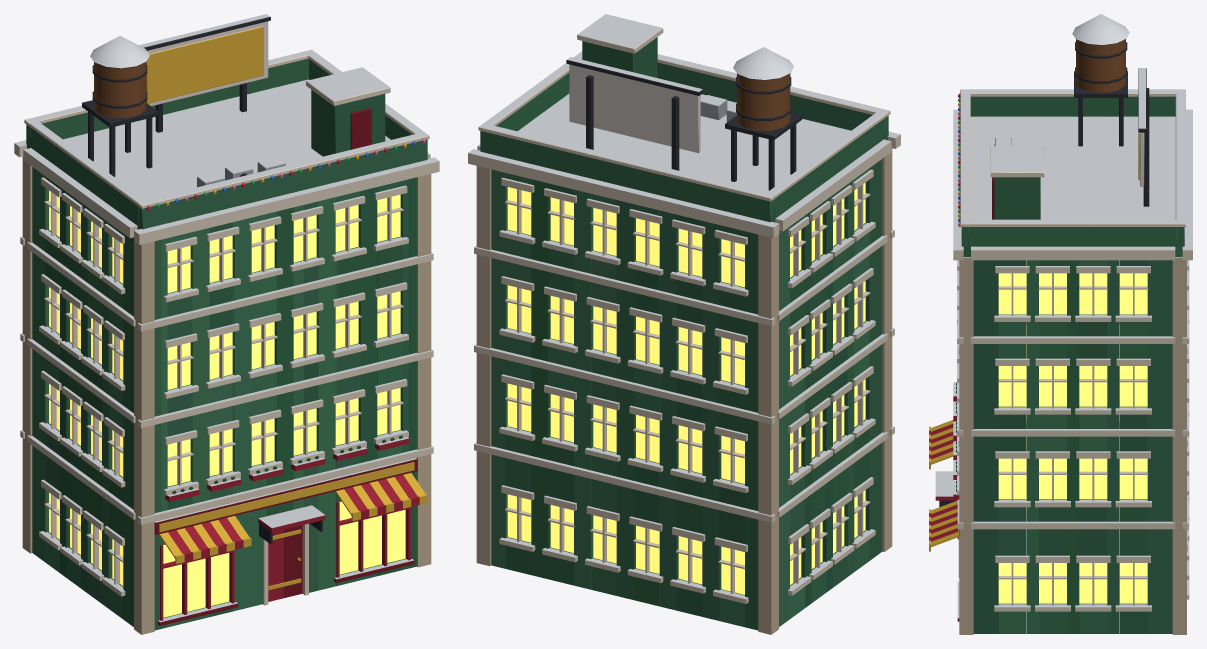
Rendered from Apartment_Green.glb.
3 renders of one model, left to right at view 1: azimuth 30°, elevation 25°; view 2: azimuth 150°, elevation 25°; view 3: azimuth 270°, elevation 25°, orthographic. The views are drawn at different scales.
Visible parts, largest first — view 1: Apartment_Green_Walls, Apartment_Green_Trim, Apartment_Green_Roof, Apartment_Green_Glow, Apartment_Green_Shopfront, Apartment_Green_Balconies; view 2: Apartment_Green_Walls, Apartment_Green_Trim, Apartment_Green_Roof, Apartment_Green_Glow; view 3: Apartment_Green_Walls, Apartment_Green_Roof, Apartment_Green_Trim, Apartment_Green_Glow, Apartment_Green_Shopfront, Apartment_Green_Balconies.
Part boxes in pixels (<box>): Apartment_Green_Walls: <box>27,79,416,630</box>; Apartment_Green_Trim: <box>14,140,439,634</box>; Apartment_Green_Roof: <box>24,14,429,229</box>; Apartment_Green_Glow: <box>49,190,405,617</box>; Apartment_Green_Shopfront: <box>154,458,427,605</box>; Apartment_Green_Balconies: <box>165,435,409,501</box>; Apartment_Green_Walls: <box>491,93,887,630</box>; Apartment_Green_Trim: <box>468,131,900,634</box>; Apartment_Green_Roof: <box>478,14,890,222</box>; Apartment_Green_Glow: <box>507,182,865,594</box>; Apartment_Green_Walls: <box>963,116,1182,633</box>; Apartment_Green_Roof: <box>960,14,1185,246</box>; Apartment_Green_Trim: <box>953,109,1192,634</box>; Apartment_Green_Glow: <box>998,260,1147,603</box>; Apartment_Green_Shopfront: <box>929,420,959,577</box>; Apartment_Green_Balconies: <box>953,382,959,499</box>.
Size of the model in its own units: 35.8 by 60.65 by 28.42.
